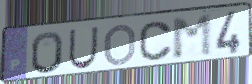4: (214, 10, 243, 57)
C: (138, 20, 175, 63)
M: (170, 12, 215, 62)
O: (30, 30, 65, 75), (102, 22, 137, 67)
U: (67, 26, 101, 71)
